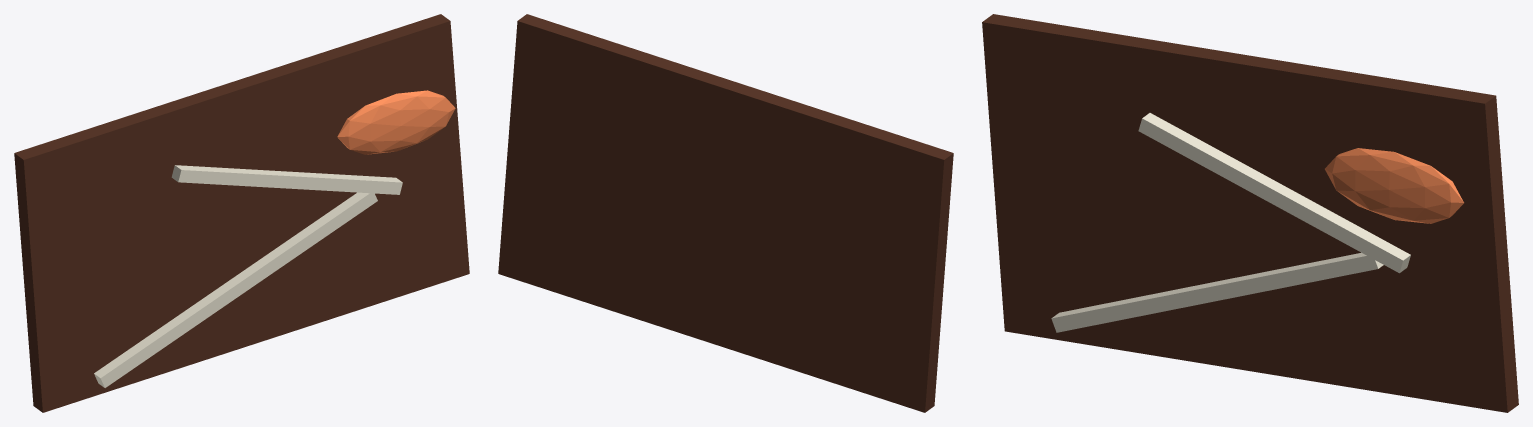
Rendered from 01_weathering_wear_overlay_1.glb.
3 renders of one model, left to right at view 1: azimuth 30°, elevation 25°; view 2: azimuth 150°, elevation 25°; view 3: azimuth 330°, elevation 25°, orthographic. The views are drawn at different scales.
Parts seen in each view (by area): view 1: wear_plate, scratch_a, rust_or_moss_spot, scratch_b; view 2: wear_plate; view 3: wear_plate, rust_or_moss_spot, scratch_b, scratch_a.
Part boxes in pixels (<box>): wear_plate: <box>14,14,469,412</box>; scratch_a: <box>94,192,377,387</box>; rust_or_moss_spot: <box>337,90,455,154</box>; scratch_b: <box>171,165,402,194</box>; wear_plate: <box>498,14,953,412</box>; wear_plate: <box>982,14,1518,412</box>; rust_or_moss_spot: <box>1325,148,1463,223</box>; scratch_b: <box>1138,113,1410,273</box>; scratch_a: <box>1051,252,1383,332</box>.
Bounding box in the file's own units: 1.35 × 0.8491 × 0.134.
